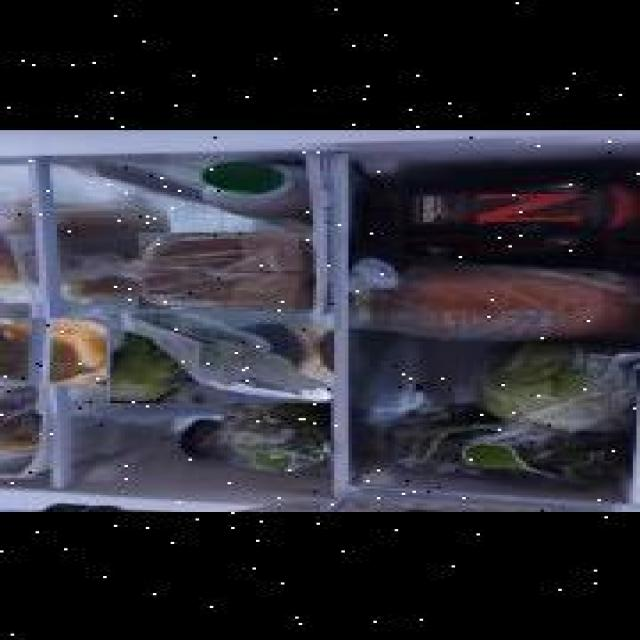bread: (138, 230, 316, 308)
broccoli: (107, 312, 334, 401)
cheese: (0, 214, 39, 292)
humus: (0, 315, 124, 384), (0, 371, 75, 448)
milk: (199, 158, 313, 230)
pineapple: (0, 384, 60, 448)
salad: (478, 340, 638, 434)
yogurt: (0, 282, 39, 312), (0, 314, 43, 339)
